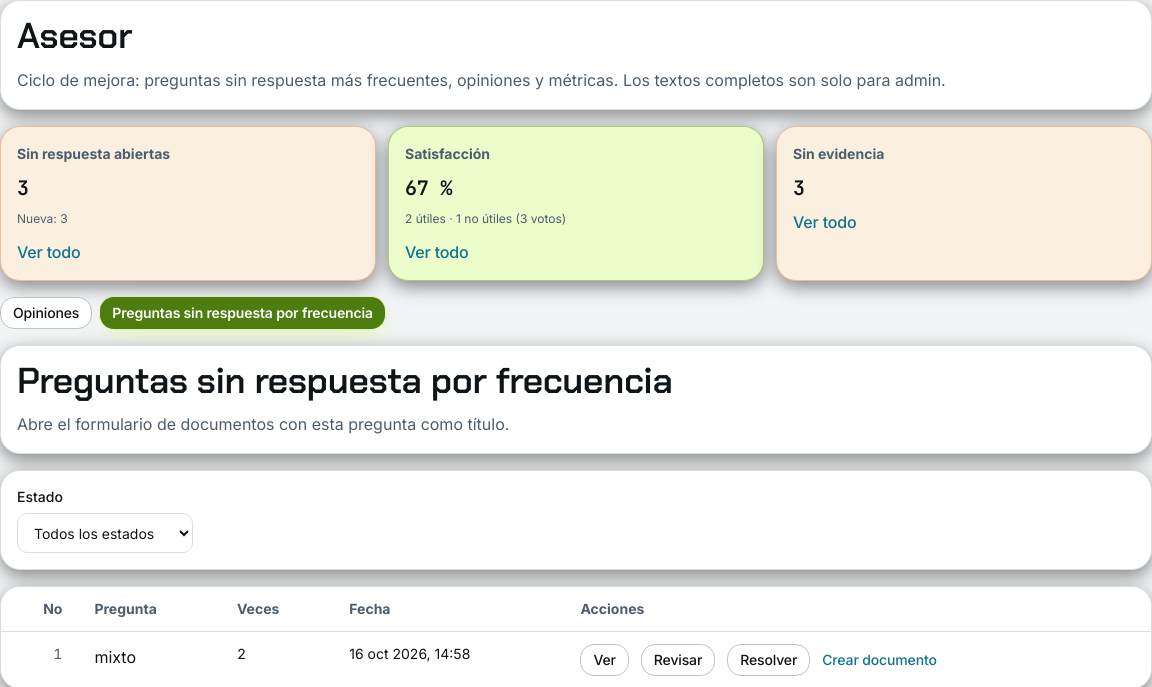
Test: AdminAdvisorView › skips backward-move conflicts on mixed buckets instead of erroring
The width and height of the screenshot is (1152, 687).
Click the button "Revisar" at (678, 660), box left=641, top=644, right=715, bottom=676
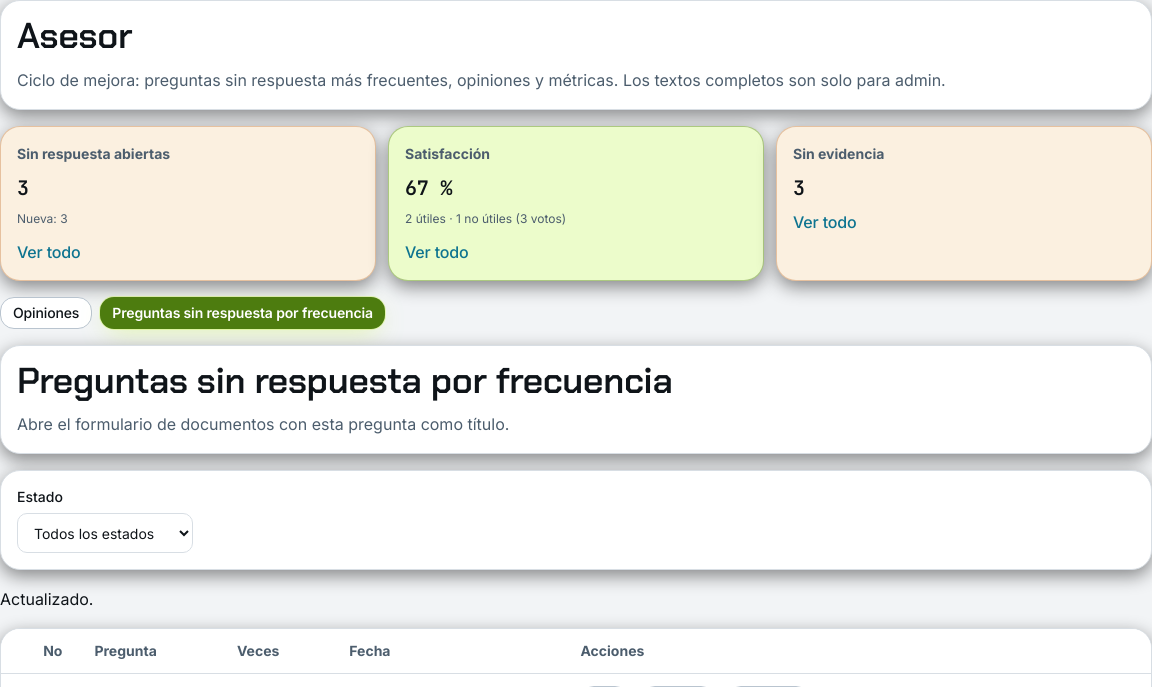
Now the text "Actualizado." is shown, box left=0, top=589, right=93, bottom=609
